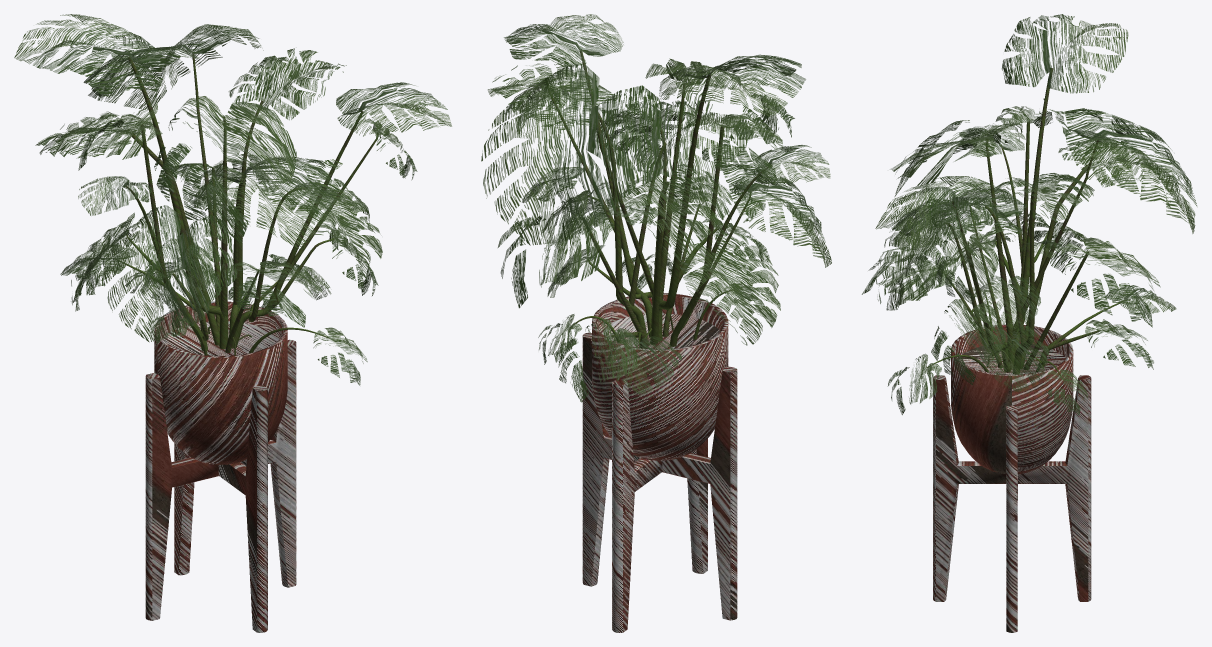
The model's file is plant_monstera.glb.
3 views of the same model, side by side, from view 1: azimuth 30°, elevation 25°; view 2: azimuth 150°, elevation 25°; view 3: azimuth 270°, elevation 25° (orthographic). The views are drawn at different scales.
Parts seen in each view (by area): view 1: Leaves_Mat.1_0, Stand_Mat_0, Pot_LP_Mat_0, root_HP_1_Mat.2_0; view 2: Leaves_Mat.1_0, Stand_Mat_0, Pot_LP_Mat_0, root_HP_1_Mat.2_0; view 3: Leaves_Mat.1_0, Stand_Mat_0, Pot_LP_Mat_0, root_HP_1_Mat.2_0.
Part boxes in pixels (bbox=[...]): Leaves_Mat.1_0: bbox=[14, 14, 451, 385]; Stand_Mat_0: bbox=[145, 339, 296, 632]; Pot_LP_Mat_0: bbox=[154, 301, 287, 464]; root_HP_1_Mat.2_0: bbox=[115, 53, 378, 355]; Leaves_Mat.1_0: bbox=[481, 14, 831, 402]; Stand_Mat_0: bbox=[582, 332, 737, 632]; Pot_LP_Mat_0: bbox=[592, 293, 728, 460]; root_HP_1_Mat.2_0: bbox=[548, 50, 771, 348]; Leaves_Mat.1_0: bbox=[862, 14, 1197, 414]; Stand_Mat_0: bbox=[933, 375, 1091, 632]; Pot_LP_Mat_0: bbox=[951, 324, 1073, 473]; root_HP_1_Mat.2_0: bbox=[927, 68, 1126, 377].
Size of the model in its own units: 0.6071 by 0.95 by 0.5523.
3 materials, 3 textured.
